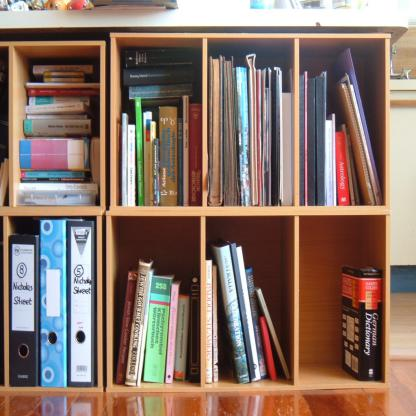book: (119, 48, 205, 209), (206, 235, 293, 386), (17, 63, 104, 192), (112, 260, 200, 386), (341, 262, 382, 384), (0, 154, 8, 210)
